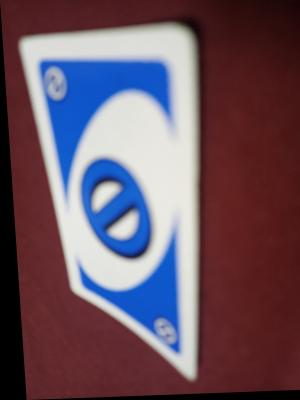blue: (34, 57, 185, 325)
